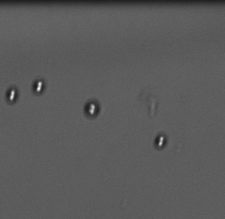Living Cell: (82, 98, 103, 119), (4, 87, 20, 103), (153, 131, 167, 149), (31, 79, 45, 94)
